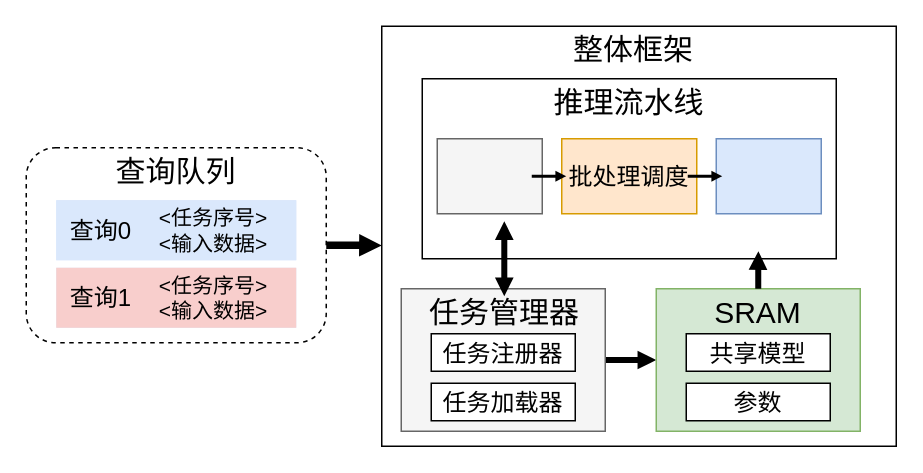
The diagram is 923 pixels wide and 473 high, and some of its shapes have lost their labels. The centre of each missing label's shape, as x and y in pixels:
"模型推理" belongs at (x=768, y=175).
"预处理" belongs at (x=489, y=175).
